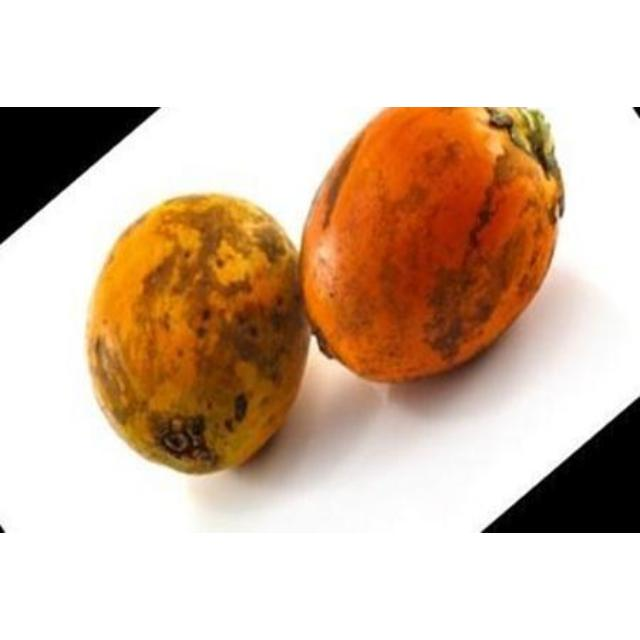good: (299, 107, 565, 386), (84, 194, 311, 477)
